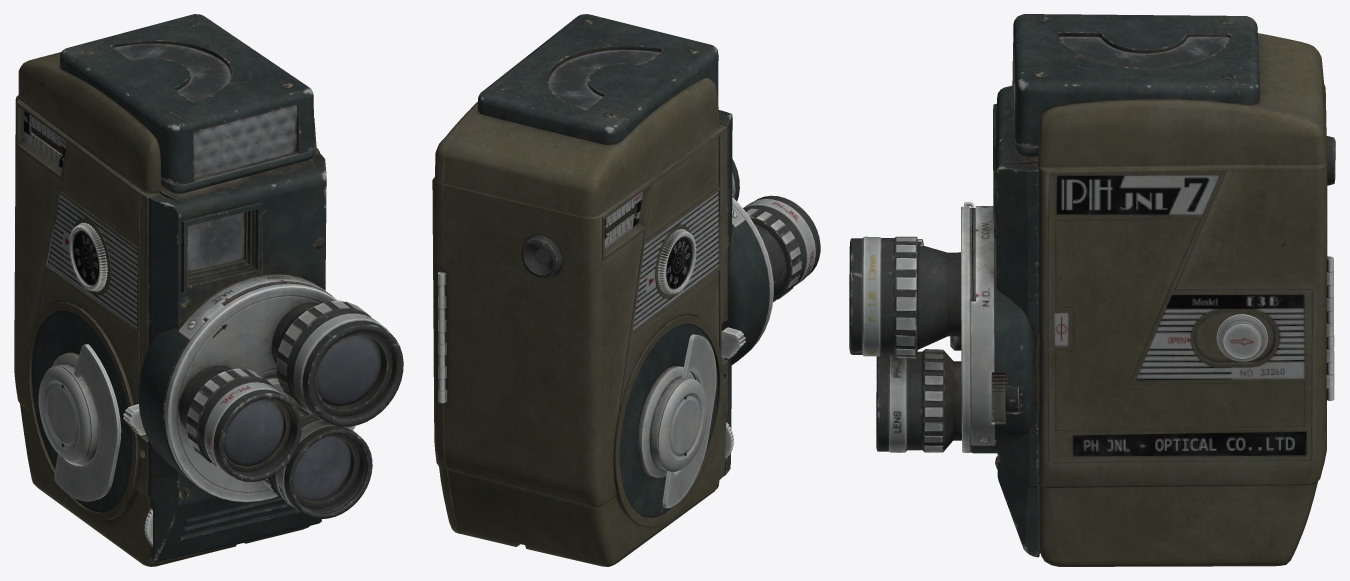
The model's file is crime-vintage-film-camera.glb.
3 views of the same model, side by side, from view 1: azimuth 30°, elevation 25°; view 2: azimuth 150°, elevation 25°; view 3: azimuth 270°, elevation 25° (orthographic). The views are drawn at different scales.
Parts seen in each view (by area): view 1: vintage_video_camera; view 2: vintage_video_camera; view 3: vintage_video_camera.
Part boxes in pixels (x1,y1,x2,y2): vintage_video_camera: (14, 14, 403, 566); vintage_video_camera: (432, 14, 820, 566); vintage_video_camera: (849, 14, 1335, 566).
Size of the model in its own units: 0.0712 by 0.145 by 0.1326.
Materials: 2 (2 with a texture image).
